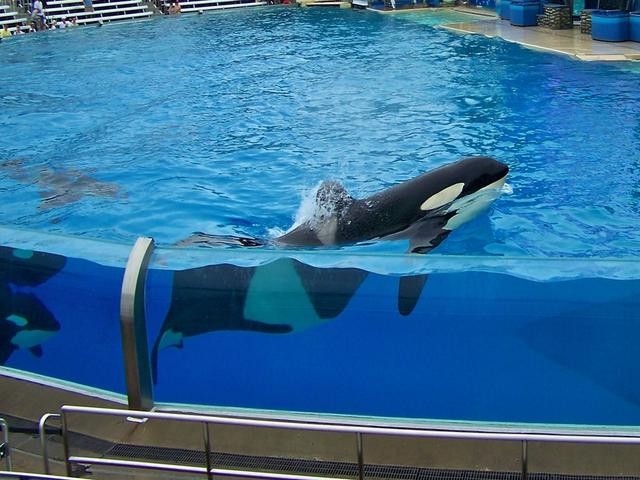dolphin: (246, 160, 604, 336)
